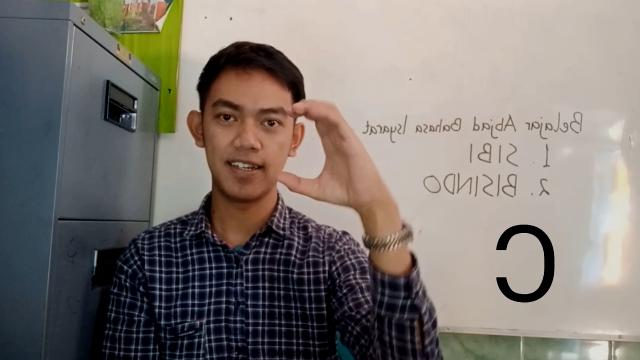C: (277, 100, 383, 210)
